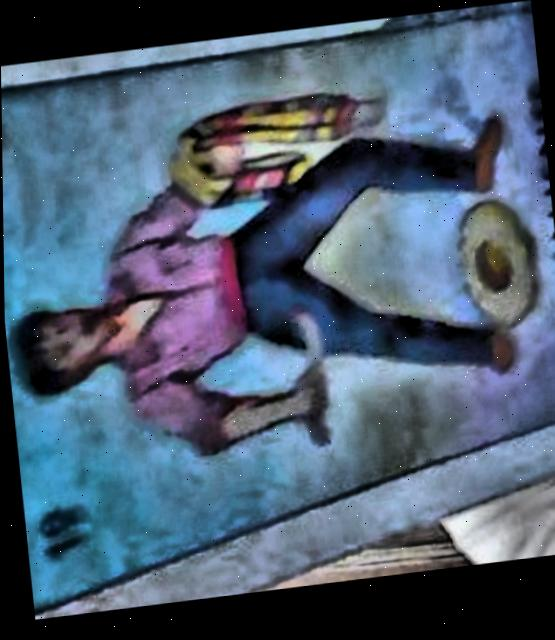El Valiente: (1, 8, 555, 609)
